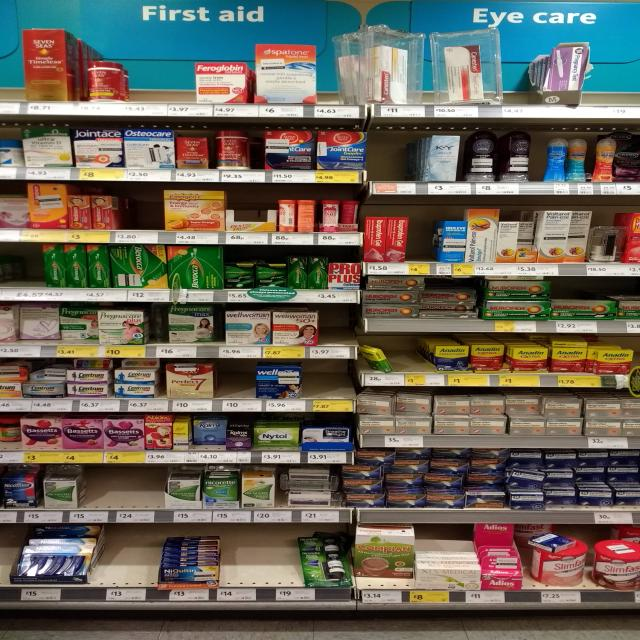void: (108, 526, 157, 602), (257, 524, 302, 602), (133, 58, 191, 116), (597, 41, 640, 118), (370, 132, 420, 195), (499, 45, 538, 117), (222, 523, 256, 603), (115, 184, 158, 243), (306, 364, 354, 413), (230, 192, 272, 245), (122, 462, 158, 522), (5, 243, 38, 300), (85, 466, 118, 522), (398, 340, 431, 390), (219, 363, 250, 414), (324, 307, 352, 360), (410, 214, 430, 276)
